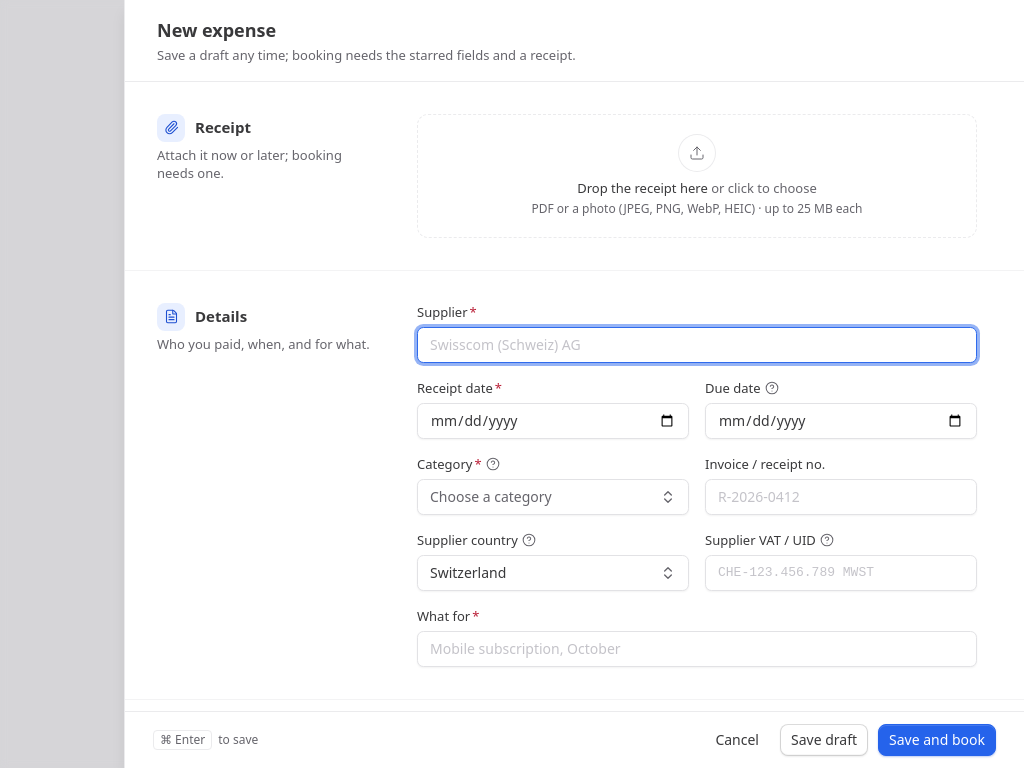
Scenario: booking an incomplete expense shows what is missing without sending anything
Expected: the field labelled "Supplier*" is shown, x1=417 y1=327 x2=977 y2=363
Click the button "Save and book" at coordinates (937, 740), box x1=878 y1=724 x2=996 y2=756
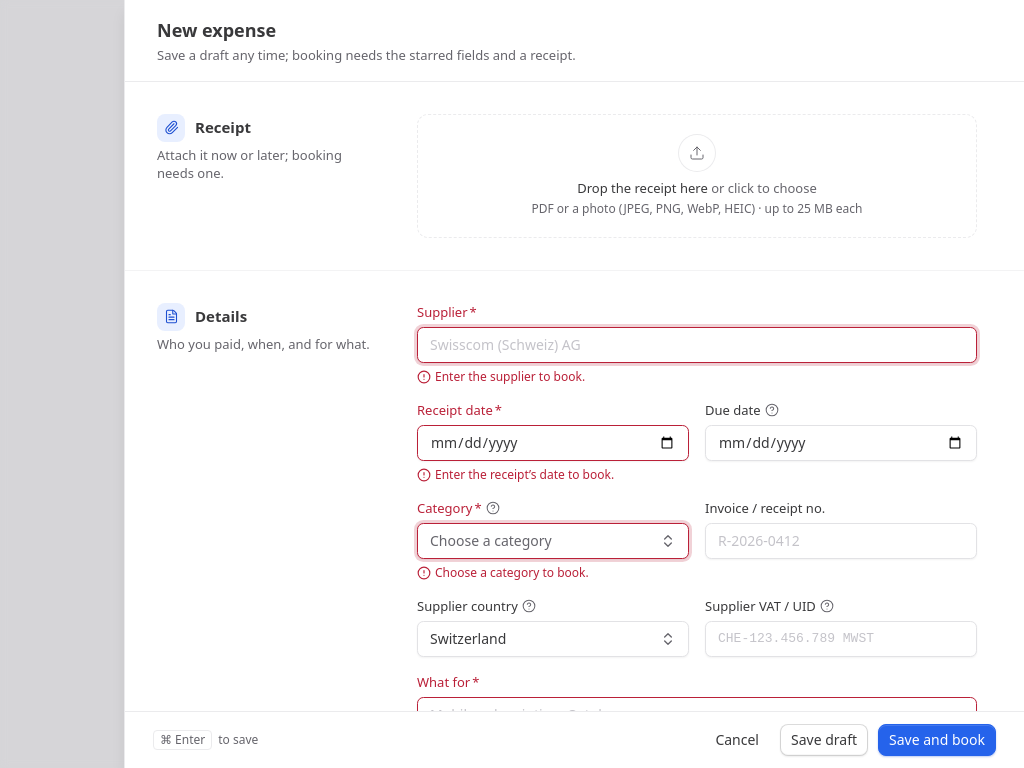
Now the text "Enter the supplier to book." is shown, box x1=417 y1=368 x2=585 y2=385
Now the text "Choose a category to book." is shown, box x1=417 y1=564 x2=589 y2=581
